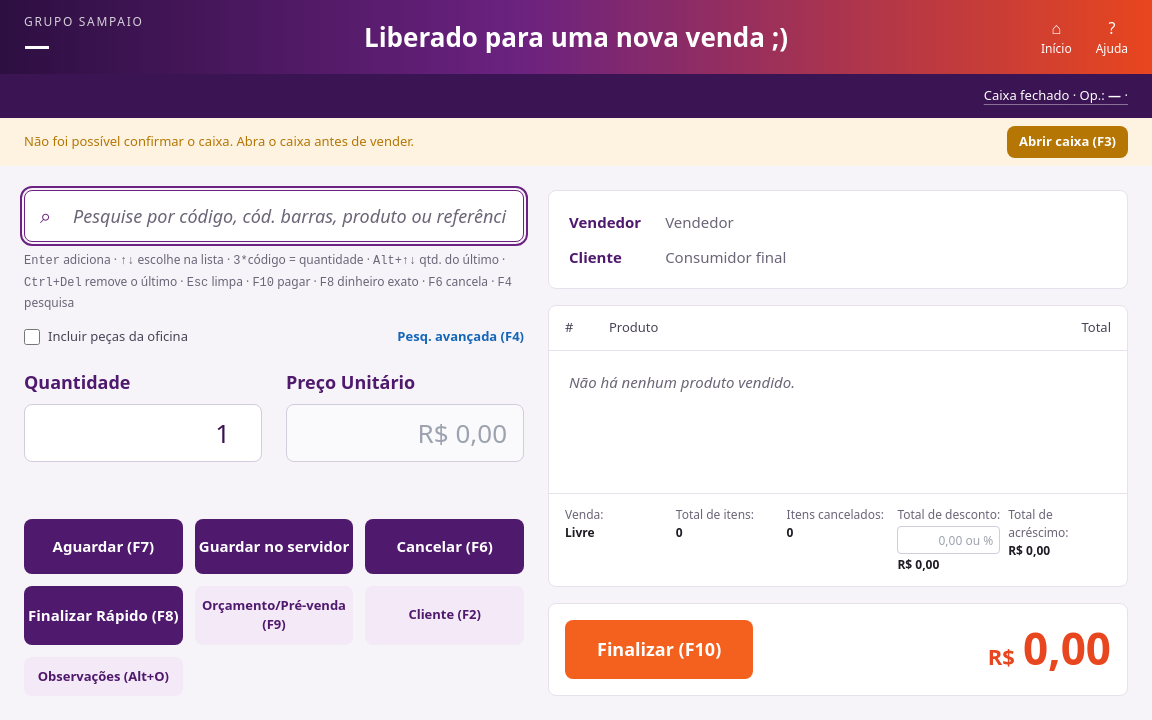
Test: a gaveta não é prometida (GAP-V55) › depois da venda, a tela diz o que a loja PODE fazer hoje
Type "7890000001111" into the field labelled "Pesquise por código, cód. barras, produto ou referência".
click(274, 216); type("7890000001111")  # box top-left (24, 190), bottom-right (524, 242)
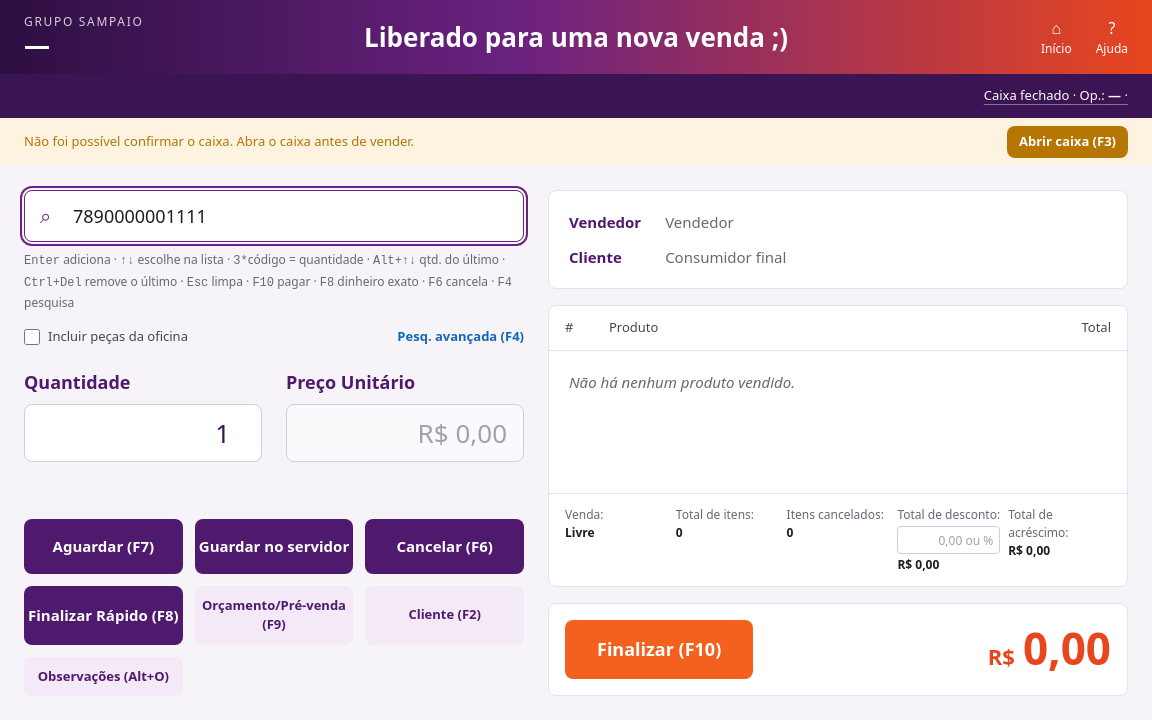
Press Enter in the field named "Pesquise por código", box top-left (24, 190), bottom-right (524, 242)
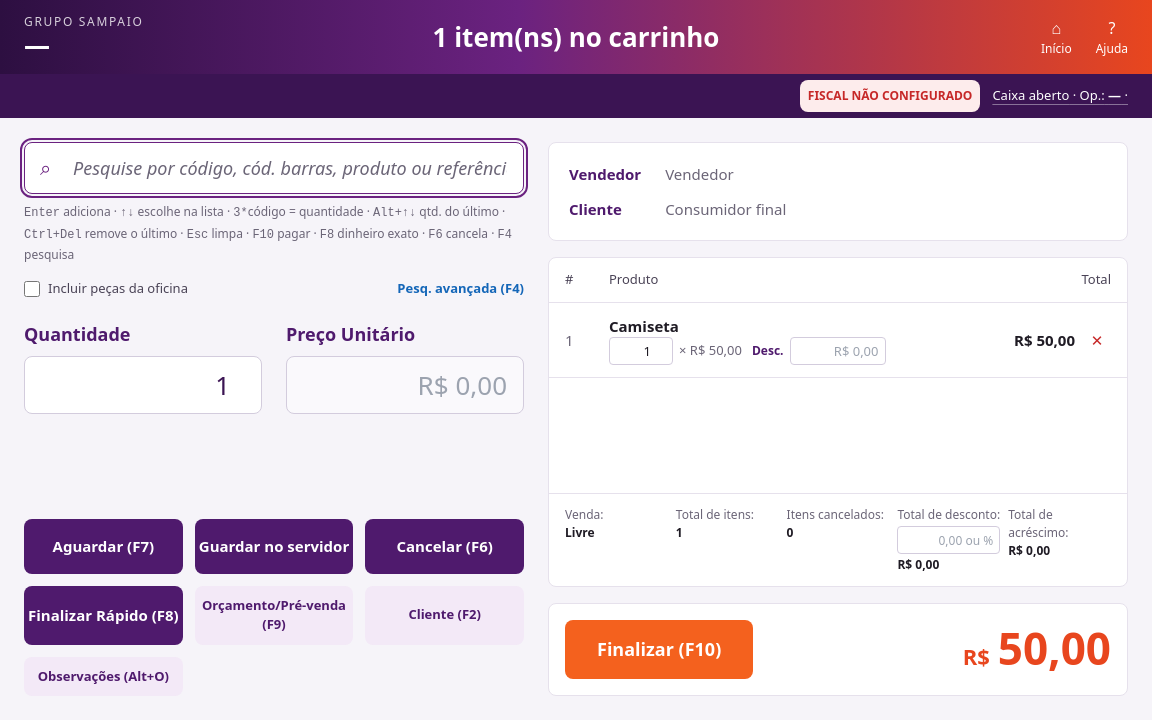
Result: the button named "Remover " is shown at top-left (1083, 324), bottom-right (1111, 356)
Click the button "Finalizar Rápido (F8)".
click(103, 615)  # box top-left (24, 586), bottom-right (183, 644)
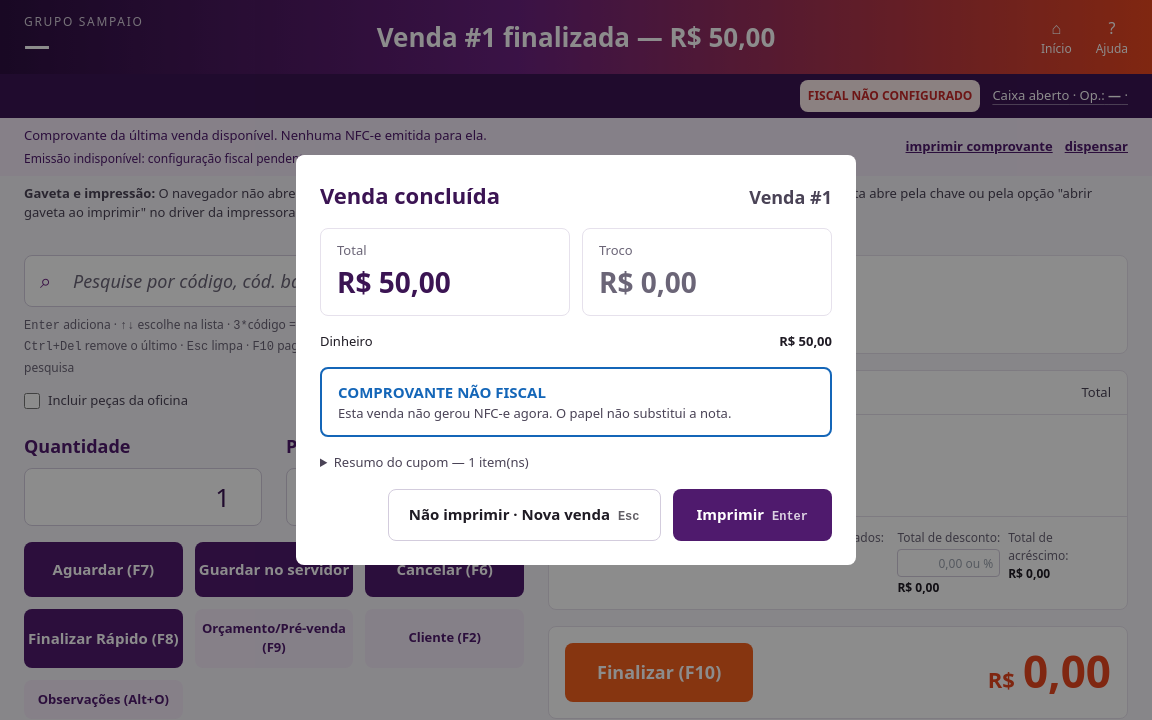
Result: the element with test id "pdv-gaveta-verdade" shows "chave" at top-left (24, 184), bottom-right (1092, 221)
Result: the element with test id "pdv-gaveta-verdade" shows "driver" at top-left (24, 184), bottom-right (1092, 221)
